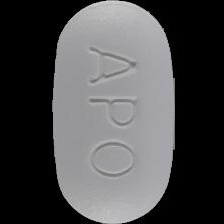0904-5679: (0, 0, 224, 224)
